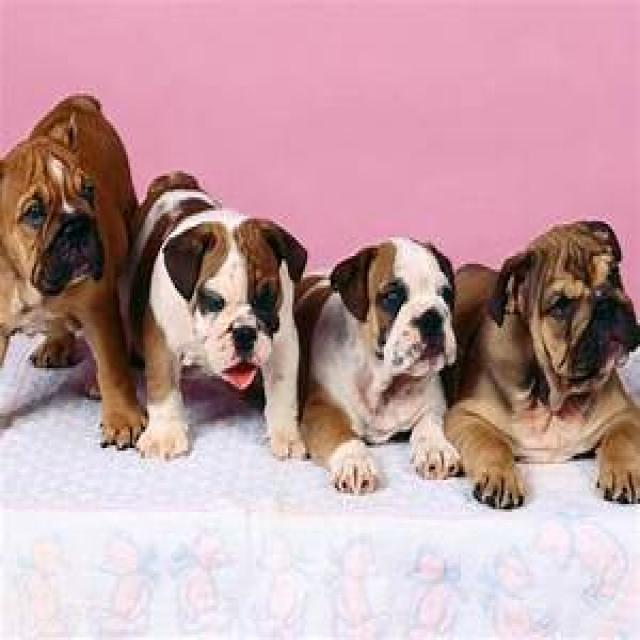dog: (437, 222, 640, 511), (132, 173, 309, 467), (0, 94, 137, 444), (293, 234, 456, 489)
